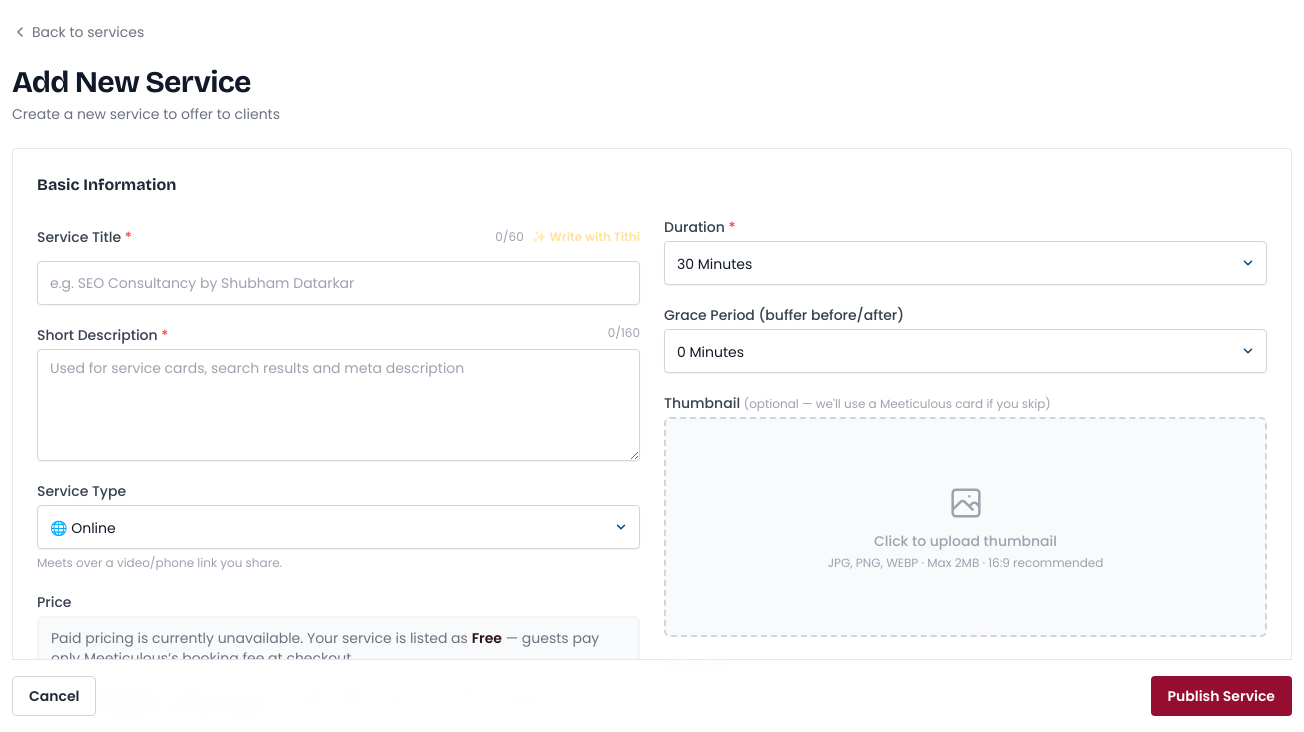
it: fills fields from AI response
The image size is (1304, 732).
Type "SEO" into the field with placeholder "e.g. SEO Consultancy by Shubham Datarkar". click: (338, 283)
box: [37,261,640,305]
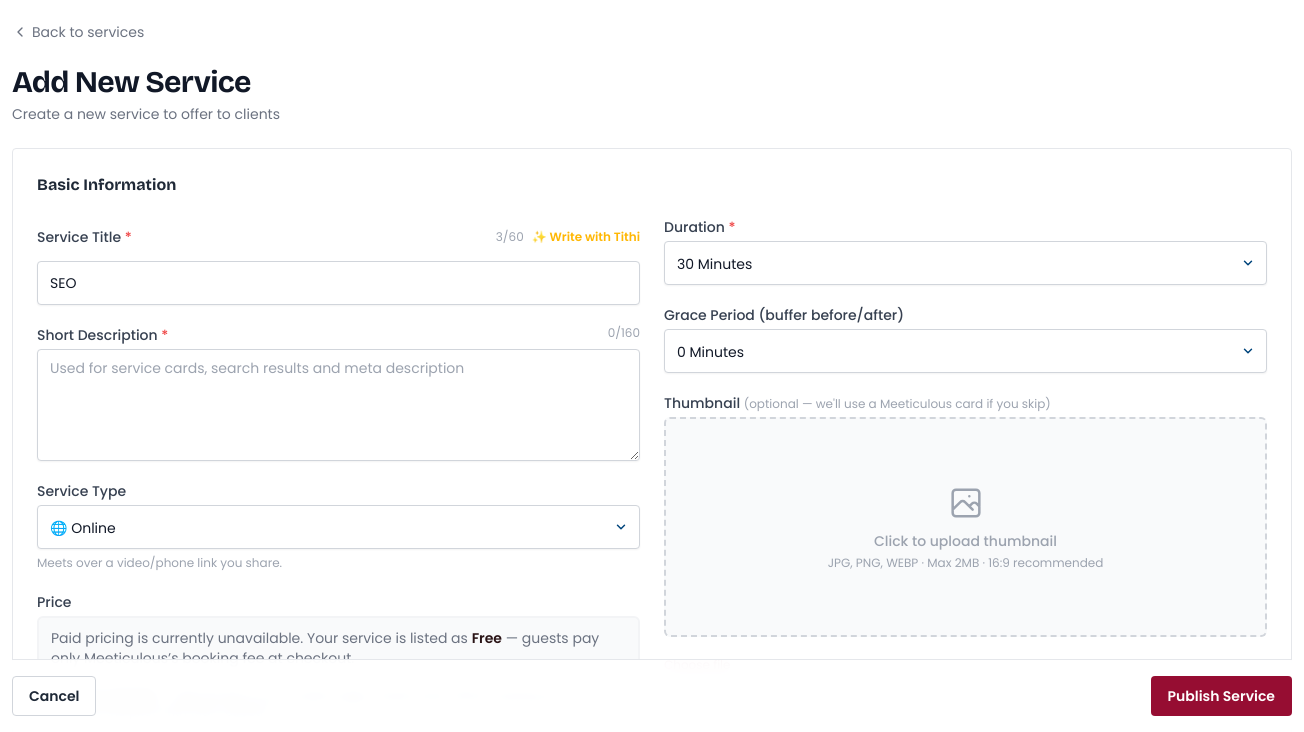
Click the button "✨ Write with Tithi". click: (586, 237)
box: [532,217,640,257]
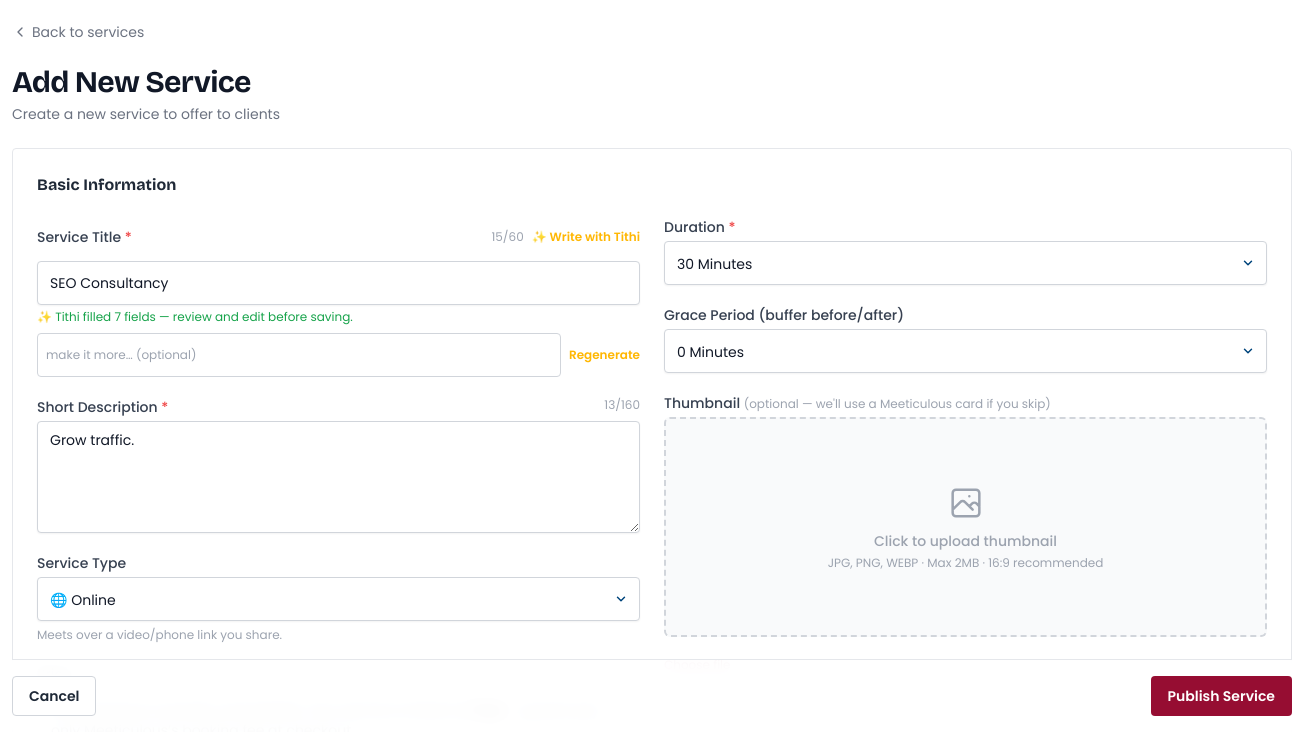
expect the text box showing "Grow traffic." is shown: met, box [37,421,640,533]
